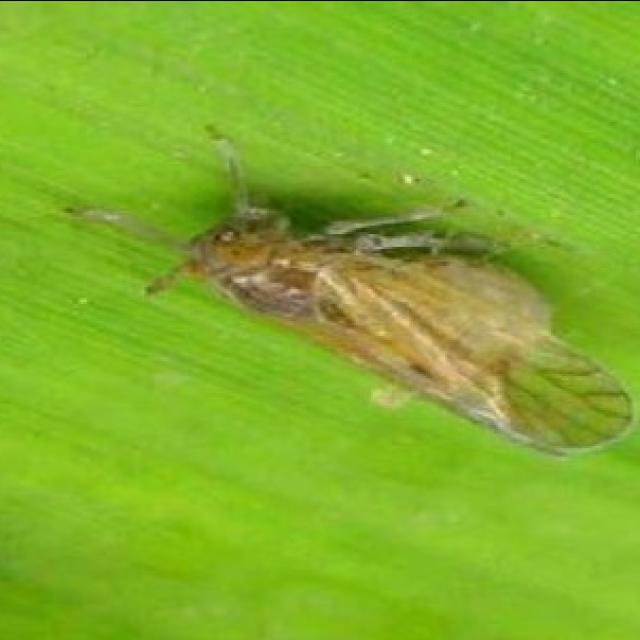brown plant hopper: (144, 184, 632, 454)
